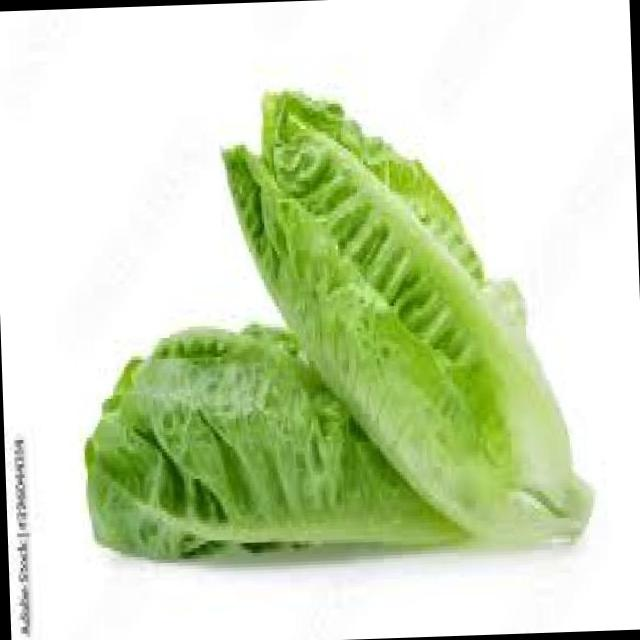Lettuce-Ready-to-Harvest: (223, 92, 590, 542), (86, 326, 466, 559)
